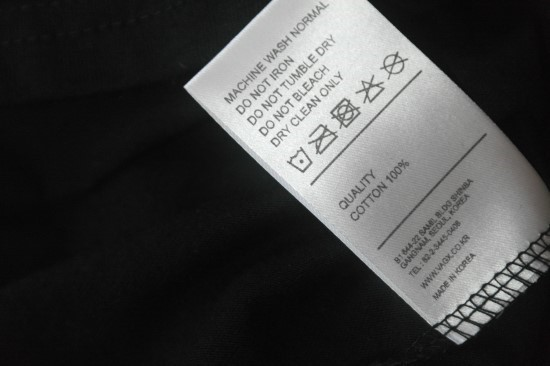ER_no_bleach: (351, 69, 393, 112)
ER_no_dry_clean: (373, 42, 416, 88)
ER_no_iron: (301, 115, 345, 161)
ER_no_tumble_dry: (322, 90, 368, 134)
